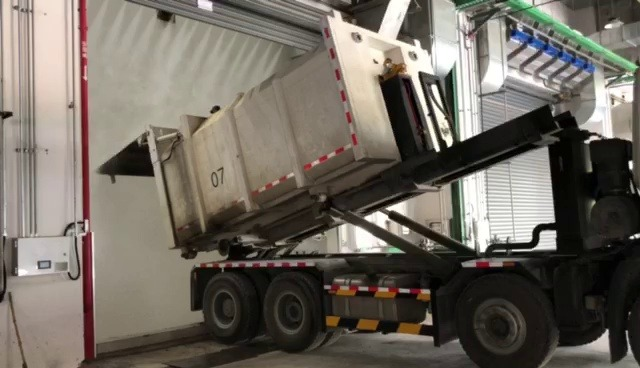truck: (98, 27, 640, 368)
